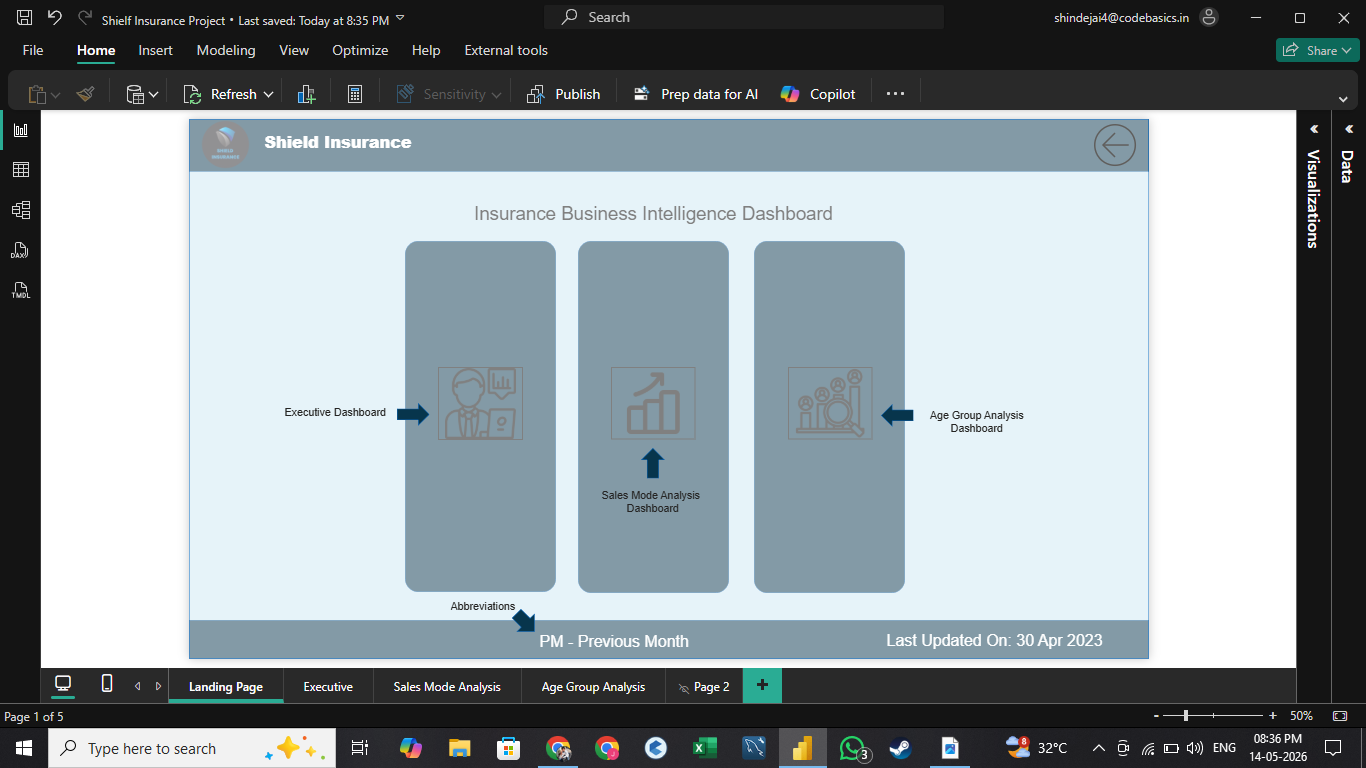

This screenshot's page, from the dashboard's own definition file:
{"tool":"powerbi","page":{"name":"Landing Page","canvas":[1920,1080],"ordinal":0},"visuals":[{"type":"shape","box":[0,0,1920,105],"z":0},{"type":"shape","box":[0,1001.9,1919.3,78.1],"z":1000},{"type":"shape","box":[778,244,302,704],"z":2000},{"type":"image","box":[844.3,496.3,169.2,145.3],"z":3000},{"type":"shape","box":[1130,244,302,704],"z":4000},{"type":"image","box":[1197,496.3,169.2,145.3],"z":5000},{"type":"shape","box":[432,244,302,702],"z":6000},{"type":"image","box":[498,495.9,170,146],"z":7000},{"type":"textbox","box":[696.1,1008.3,325.3,58.6],"z":8000},{"type":"image","box":[0,0,145.3,101.9],"z":9000},{"type":"textbox","box":[364,162,1130,82],"z":10000},{"type":"cardVisual","fields":{"Data":["Key Measures.Last Updated On"]},"box":[1366,998.6,554,78],"z":11000},{"type":"textbox","box":[145.3,17.3,433.7,67.2],"z":12000},{"type":"actionButton","box":[1800,0,120,96],"z":15000},{"type":"textbox","box":[48,1013.6,384,48],"z":16000},{"type":"image","box":[400,1008,96,48],"z":17000}]}

Visuals, with their boxes on the page's 1920x1080 design canvas (x1, y1, x2, y2). These are canvas units, not pixel positions in the 1366x768 screenshot, which may show the page scaled, cropped or inside an application window:
shape: 0,0,1920,105
shape: 0,1002,1919,1080
shape: 778,244,1080,948
image: 844,496,1014,642
shape: 1130,244,1432,948
image: 1197,496,1366,642
shape: 432,244,734,946
image: 498,496,668,642
textbox: 696,1008,1021,1067
image: 0,0,145,102
textbox: 364,162,1494,244
cardVisual - Key Measures.Last Updated On: 1366,999,1920,1077
textbox: 145,17,579,84
actionButton: 1800,0,1920,96
textbox: 48,1014,432,1062
image: 400,1008,496,1056
